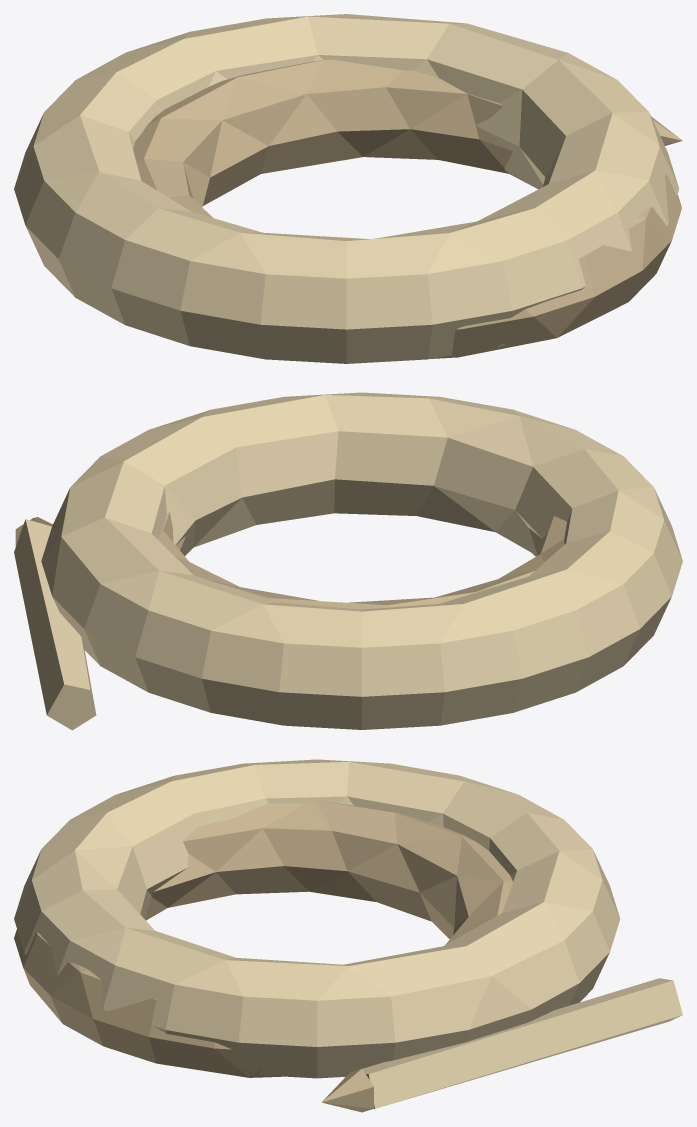
Rendered from 16-Crafting_cuerda_enrollada.glb.
3 views of the same model, one above another, from view 1: azimuth 30°, elevation 25°; view 2: azimuth 150°, elevation 25°; view 3: azimuth 270°, elevation 25° (orthographic). The views are drawn at different scales.
Visible parts, largest first — view 1: SM_Cuerda_M_Cuerda_Claro, SM_Cuerda_M_Cuerda_Oscuro; view 2: SM_Cuerda_M_Cuerda_Claro, SM_Cuerda_M_Cuerda_Oscuro; view 3: SM_Cuerda_M_Cuerda_Claro, SM_Cuerda_M_Cuerda_Oscuro.
Part boxes in pixels (x1,y1,x2,y2): SM_Cuerda_M_Cuerda_Claro: (14,14,678,363); SM_Cuerda_M_Cuerda_Oscuro: (133,59,682,358); SM_Cuerda_M_Cuerda_Claro: (14,392,682,730); SM_Cuerda_M_Cuerda_Oscuro: (15,512,566,609); SM_Cuerda_M_Cuerda_Claro: (14,759,682,1108); SM_Cuerda_M_Cuerda_Oscuro: (14,801,512,1112).
Size of the model in its own units: 0.5983 by 0.1106 by 0.6068.
